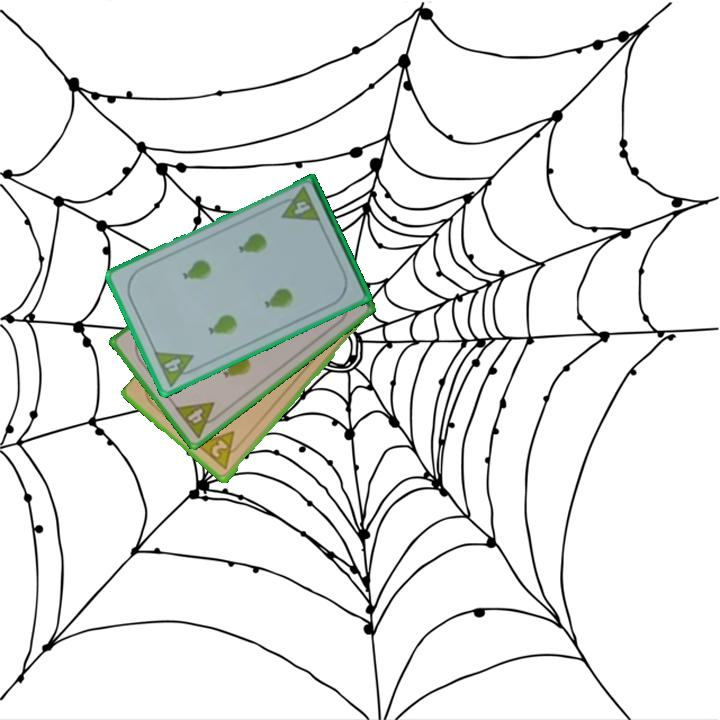2p: (194, 428, 246, 474)
4p: (171, 398, 225, 441), (150, 348, 202, 390), (273, 183, 323, 225)
